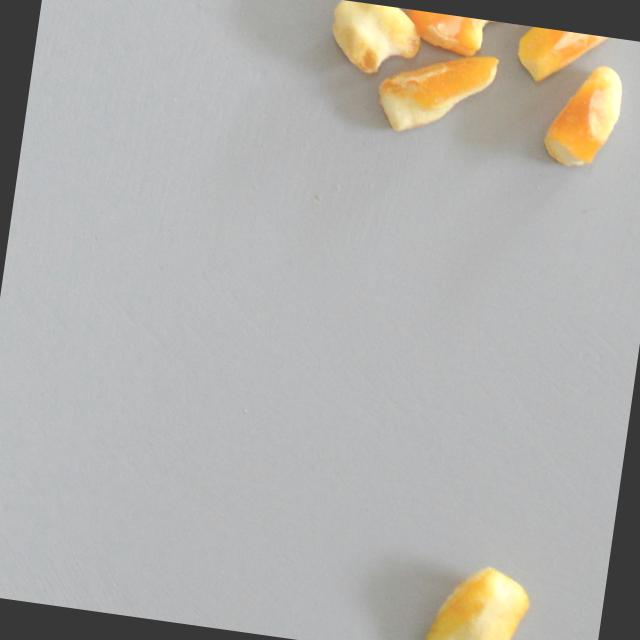dañado: (536, 59, 633, 179)
pelicula: (371, 39, 499, 144), (422, 557, 536, 640), (324, 0, 425, 79), (396, 8, 514, 63), (519, 26, 596, 92)
